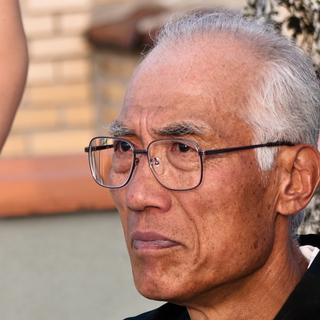eye: (163, 135, 201, 161), (107, 135, 141, 158)
